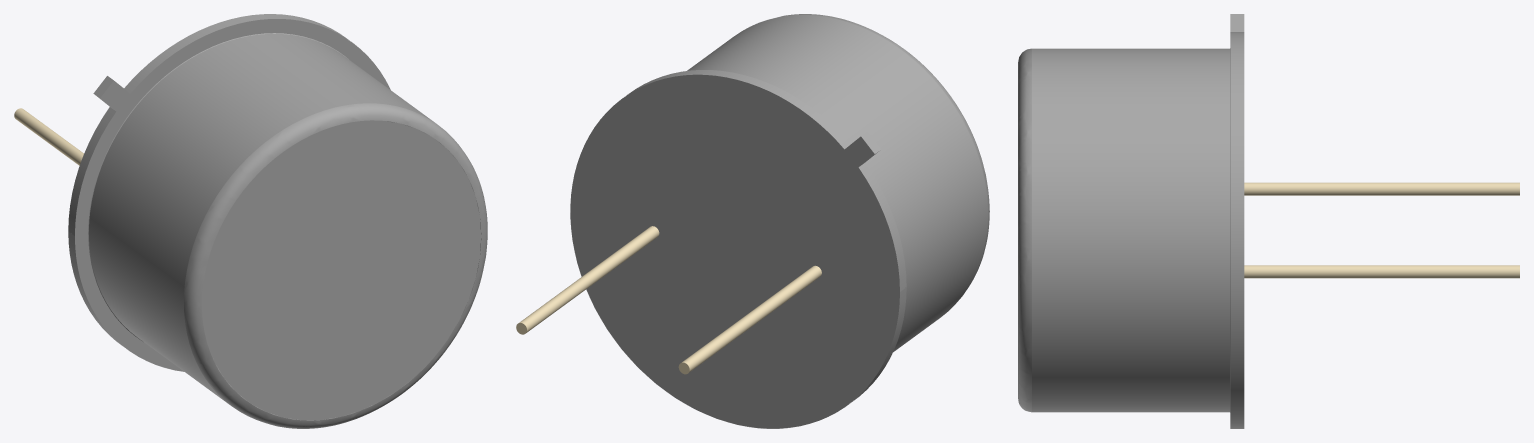
The picture shows the model from 3 angles, left to right: view 1: azimuth 30°, elevation 25°; view 2: azimuth 150°, elevation 25°; view 3: azimuth 270°, elevation 25°; orthographic projection. The views are drawn at different scales.
Parts seen in each view (by area): view 1: Shape_IndexedFaceSet.018, Shape_IndexedFaceSet.014, Shape_IndexedFaceSet.017, Shape_IndexedFaceSet.010, Shape_IndexedFaceSet.006, Shape_IndexedFaceSet.005, Shape_IndexedFaceSet.013, Shape_IndexedFaceSet.011, Shape_IndexedFaceSet.004; view 2: Shape_IndexedFaceSet.009, Shape_IndexedFaceSet.014, Shape_IndexedFaceSet.007, Shape_IndexedFaceSet.006, Shape_IndexedFaceSet.013, Shape_IndexedFaceSet.012, Shape_IndexedFaceSet.005, Shape_IndexedFaceSet.017, Shape_IndexedFaceSet.003; view 3: Shape_IndexedFaceSet.014, Shape_IndexedFaceSet.006, Shape_IndexedFaceSet.017, Shape_IndexedFaceSet.012, Shape_IndexedFaceSet.013.
Part boxes in pixels (<box>): Shape_IndexedFaceSet.018: <box>202,120,481,420</box>; Shape_IndexedFaceSet.014: <box>89,33,481,420</box>; Shape_IndexedFaceSet.017: <box>184,103,487,428</box>; Shape_IndexedFaceSet.010: <box>75,19,389,371</box>; Shape_IndexedFaceSet.006: <box>68,14,390,371</box>; Shape_IndexedFaceSet.005: <box>68,107,116,235</box>; Shape_IndexedFaceSet.013: <box>14,108,83,165</box>; Shape_IndexedFaceSet.011: <box>88,33,348,341</box>; Shape_IndexedFaceSet.004: <box>100,81,130,111</box>; Shape_IndexedFaceSet.009: <box>570,75,899,428</box>; Shape_IndexedFaceSet.014: <box>687,15,987,352</box>; Shape_IndexedFaceSet.007: <box>728,149,858,260</box>; Shape_IndexedFaceSet.006: <box>570,70,906,428</box>; Shape_IndexedFaceSet.013: <box>681,265,821,372</box>; Shape_IndexedFaceSet.012: <box>518,226,659,332</box>; Shape_IndexedFaceSet.005: <box>858,163,906,291</box>; Shape_IndexedFaceSet.017: <box>778,14,989,296</box>; Shape_IndexedFaceSet.003: <box>845,136,874,166</box>; Shape_IndexedFaceSet.014: <box>1032,48,1229,412</box>; Shape_IndexedFaceSet.006: <box>1230,32,1244,428</box>; Shape_IndexedFaceSet.017: <box>1018,48,1031,412</box>; Shape_IndexedFaceSet.012: <box>1244,265,1519,278</box>; Shape_IndexedFaceSet.013: <box>1244,182,1519,195</box>.
Bounding box in the file's own units: 5.67 × 5.67 × 7.17.
